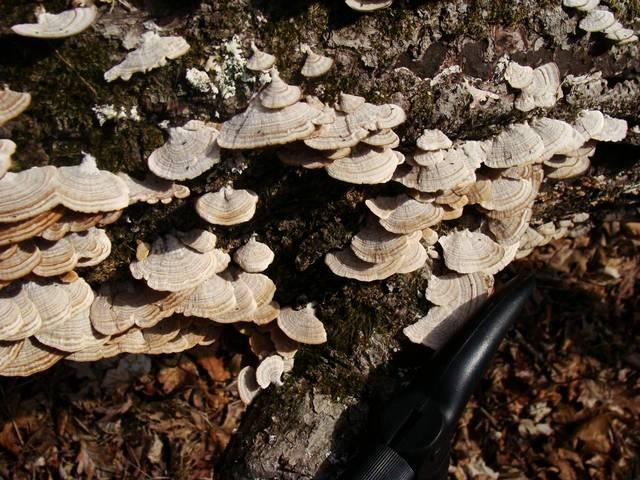poisonous_mushroom: (0, 43, 640, 416), (9, 0, 99, 40)
